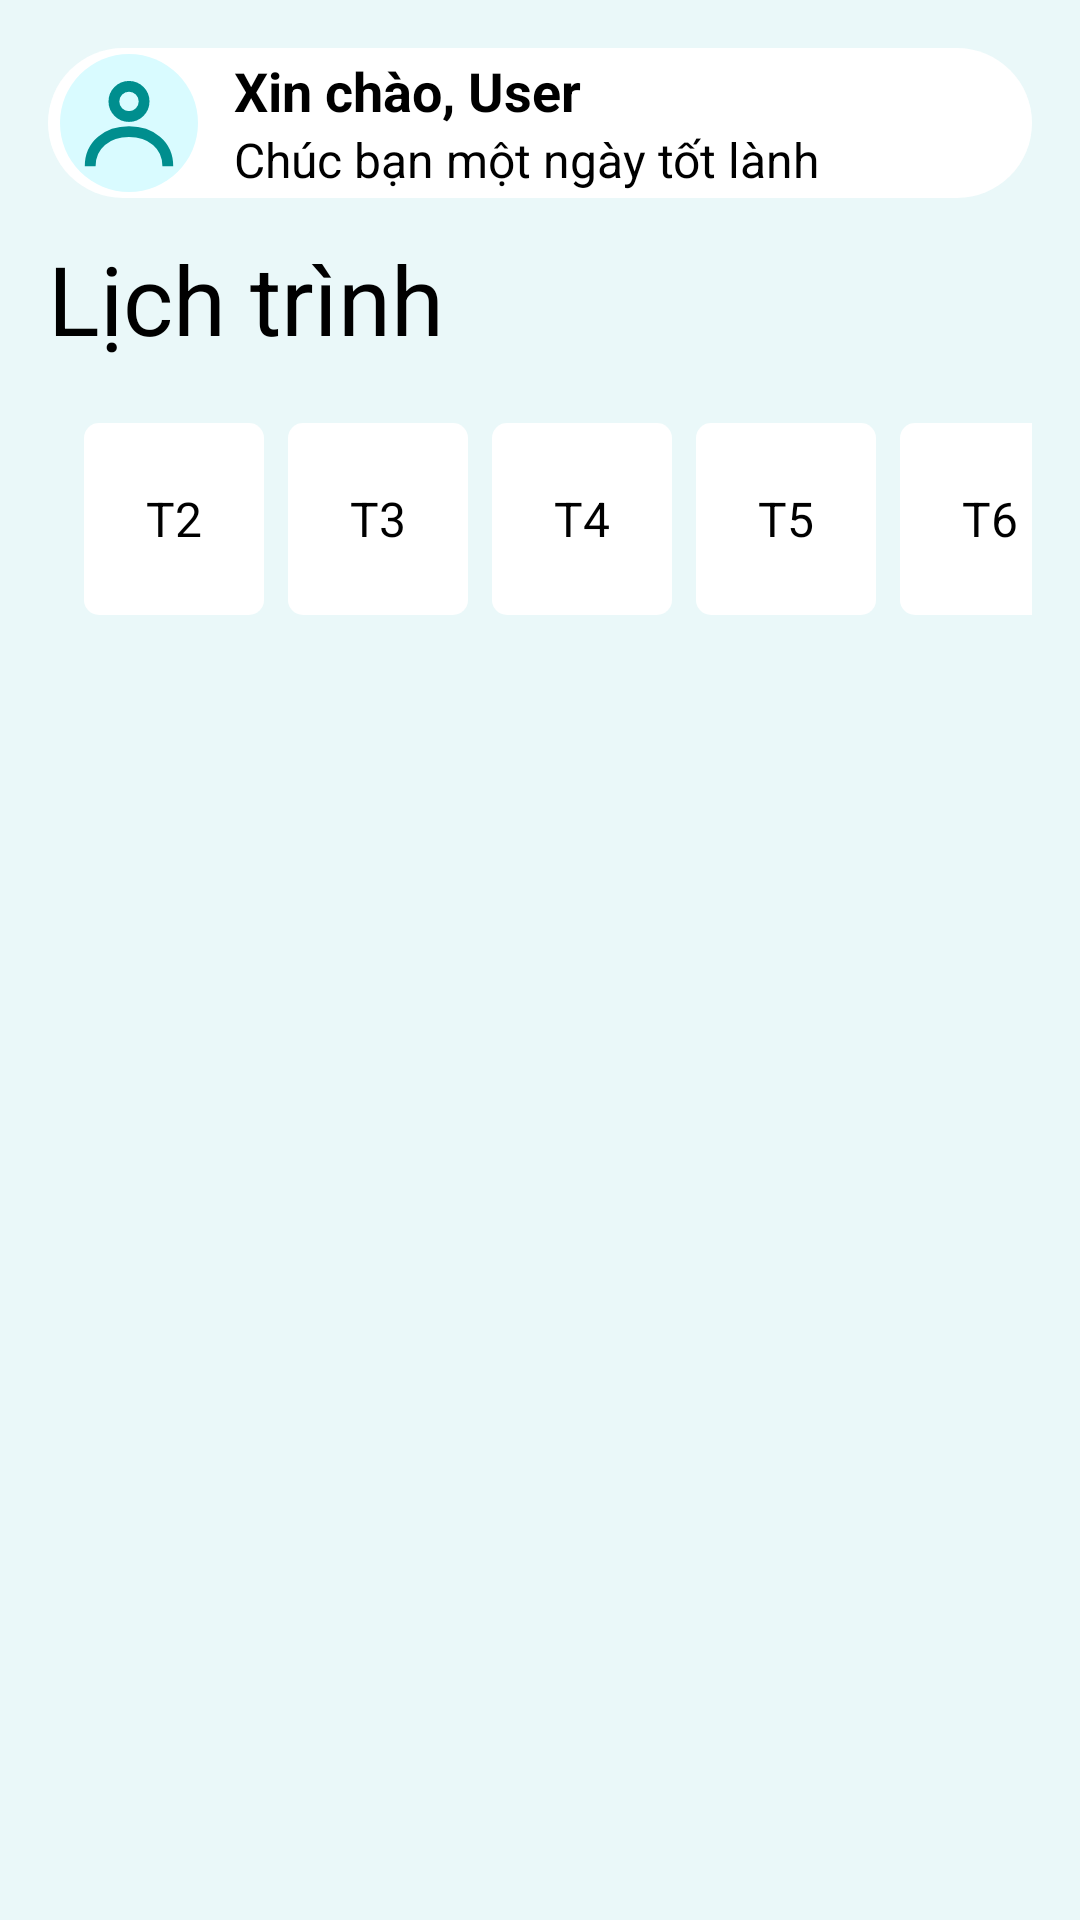

Where to tap for icons on this 1080w x 1920h app screen, as [x,y]:
profile: [123,123]
